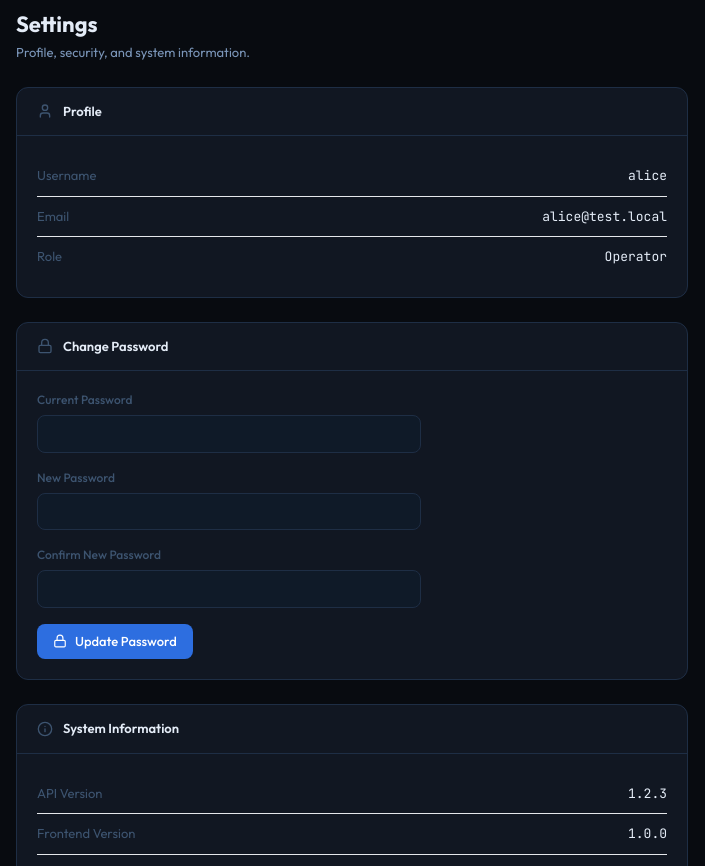
SettingsPage › shows local error when new password is too short
Type "oldpass123" into the password field labelled "Current Password".
click(229, 434); type("oldpass123")  # box [37,415,421,452]
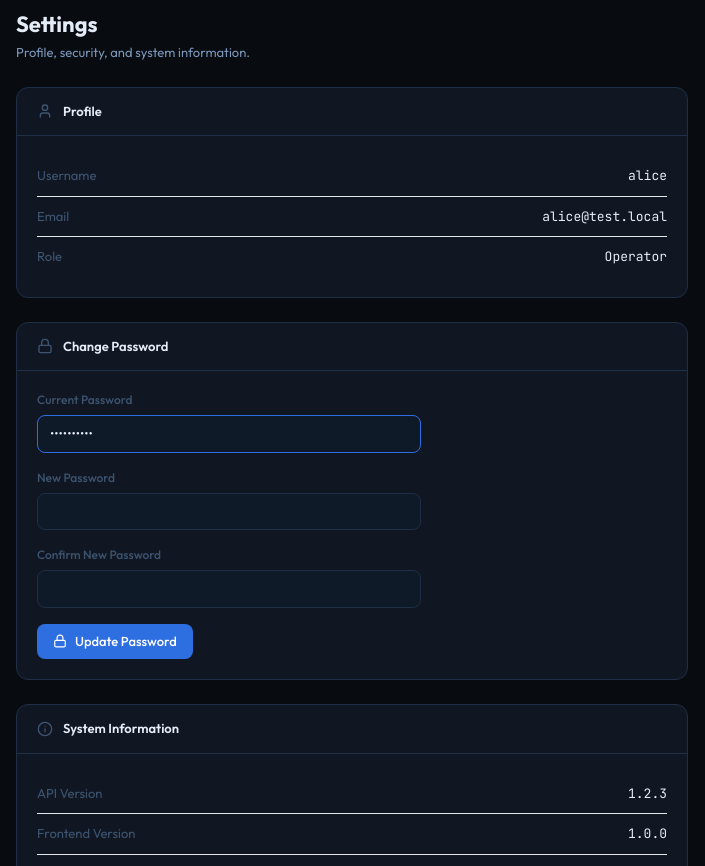
Type "short" into the password field labelled "New Password".
click(229, 511); type("short")  # box [37,492,421,530]
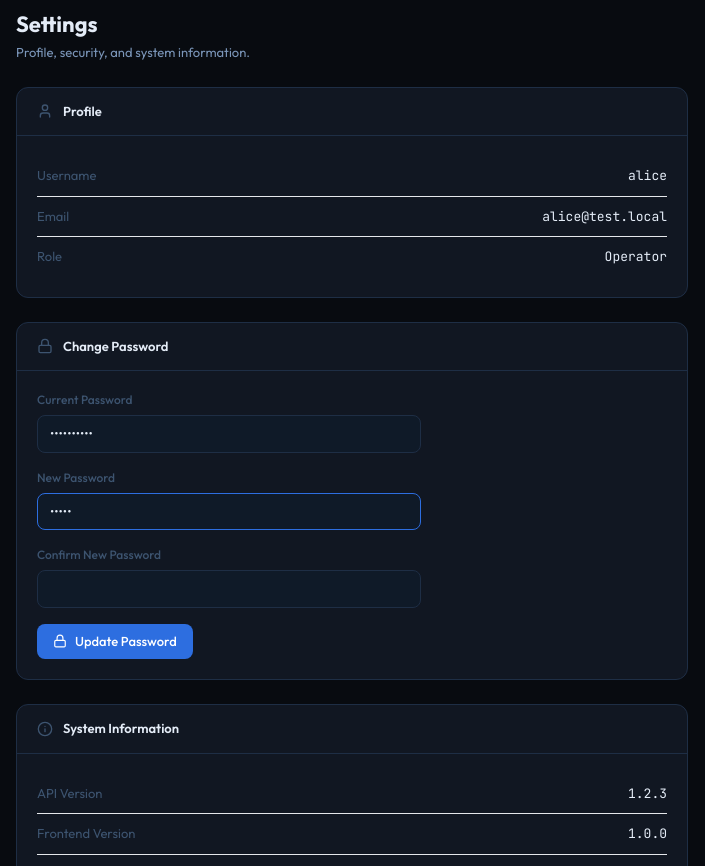
Type "short" into the password field labelled "Confirm New Password".
click(229, 589); type("short")  # box [37,570,421,608]
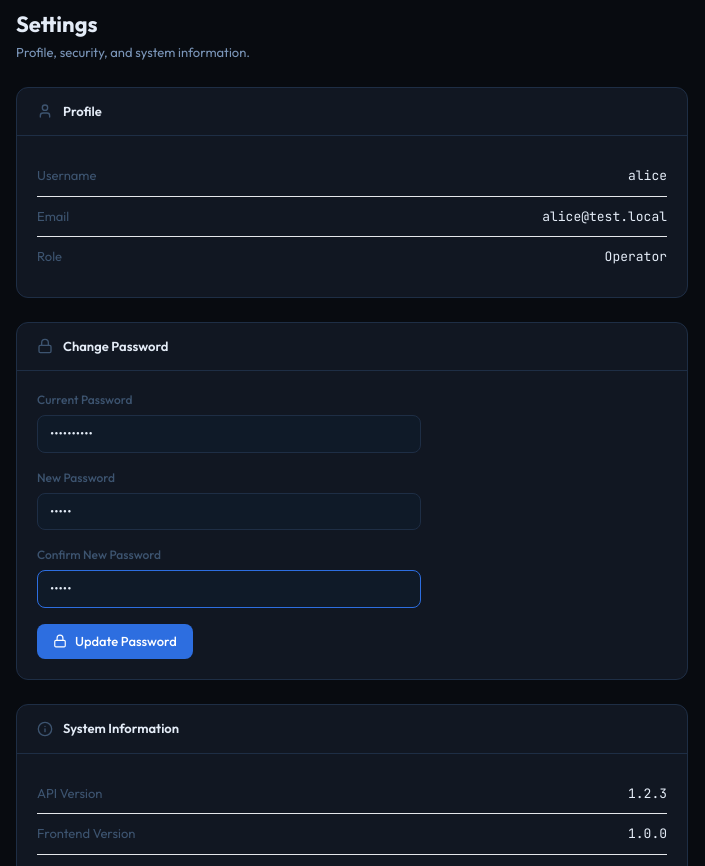
Click the button "Update Password".
click(115, 641)  # box [37,624,193,659]
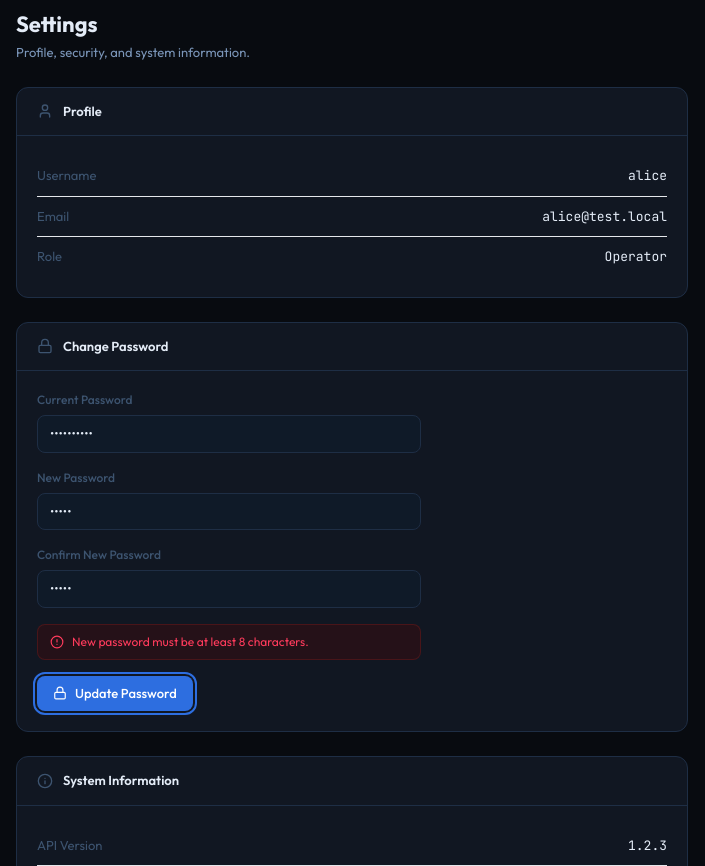
Check: the text "New password must be at least 8 characters." is shown, box [37,624,421,660]
